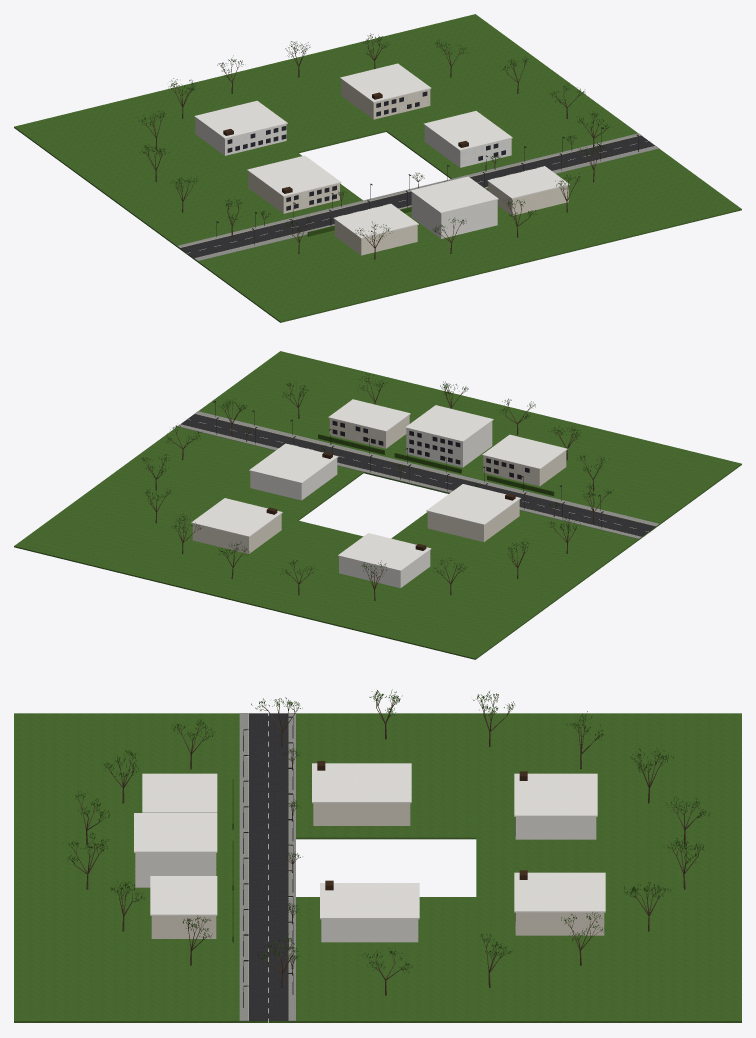
Rendered from LuxuryVilla_Surroundings.glb.
The picture shows the model from 3 angles, top to bottom: view 1: azimuth 30°, elevation 25°; view 2: azimuth 150°, elevation 25°; view 3: azimuth 270°, elevation 25°; orthographic projection. The views are drawn at different scales.
Parts seen in each view (by area): view 1: Neighbourhood, House_S, House_West, House_NW, House_NE, House_East, House_SW, House_SE; view 2: Neighbourhood, House_S, House_West, House_NW, House_NE, House_East, House_SW, House_SE; view 3: Neighbourhood, House_West, House_East, House_NE, House_NW, House_S, House_SE, House_SW.
Part boxes in pixels (x1,y1,x2,y2): Neighbourhood: (14,14,741,322); House_S: (410,176,498,238); House_West: (247,155,341,213); House_NW: (194,100,287,155); House_NE: (340,63,431,119); House_East: (423,111,512,167); House_SW: (333,204,418,255); House_SE: (487,166,569,215); Neighbourhood: (14,351,741,659); House_S: (405,405,493,467); House_West: (426,484,520,541); House_NW: (338,533,431,588); House_NE: (191,498,282,553); House_East: (249,443,338,500); House_SW: (482,434,567,486); House_SE: (328,399,410,448); Neighbourhood: (14,712,741,1023); House_West: (312,761,411,825); House_East: (320,880,419,942); House_NE: (514,870,605,935); House_NW: (514,771,597,839); House_S: (134,813,217,887); House_SE: (150,876,217,938); House_SW: (142,773,217,812).
Bounding box in the file's own units: 183 × 15.01 × 180.
14 materials, 11 textured.
